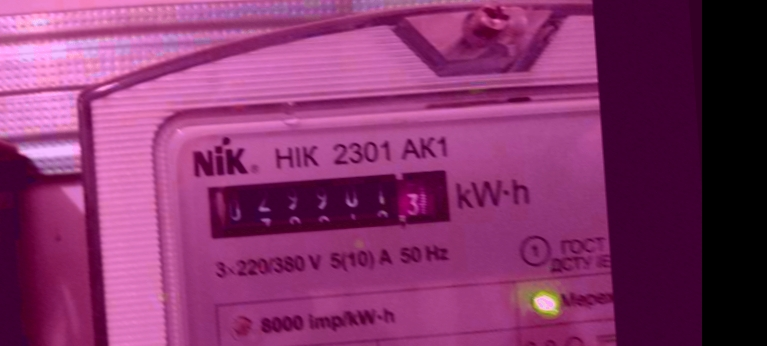0: (223, 194, 243, 222), (341, 179, 359, 209)
1: (372, 176, 387, 205)
2: (253, 186, 272, 214)
3: (402, 189, 421, 216)
9: (283, 184, 300, 212), (314, 183, 328, 210)
screen: (197, 158, 461, 248)
